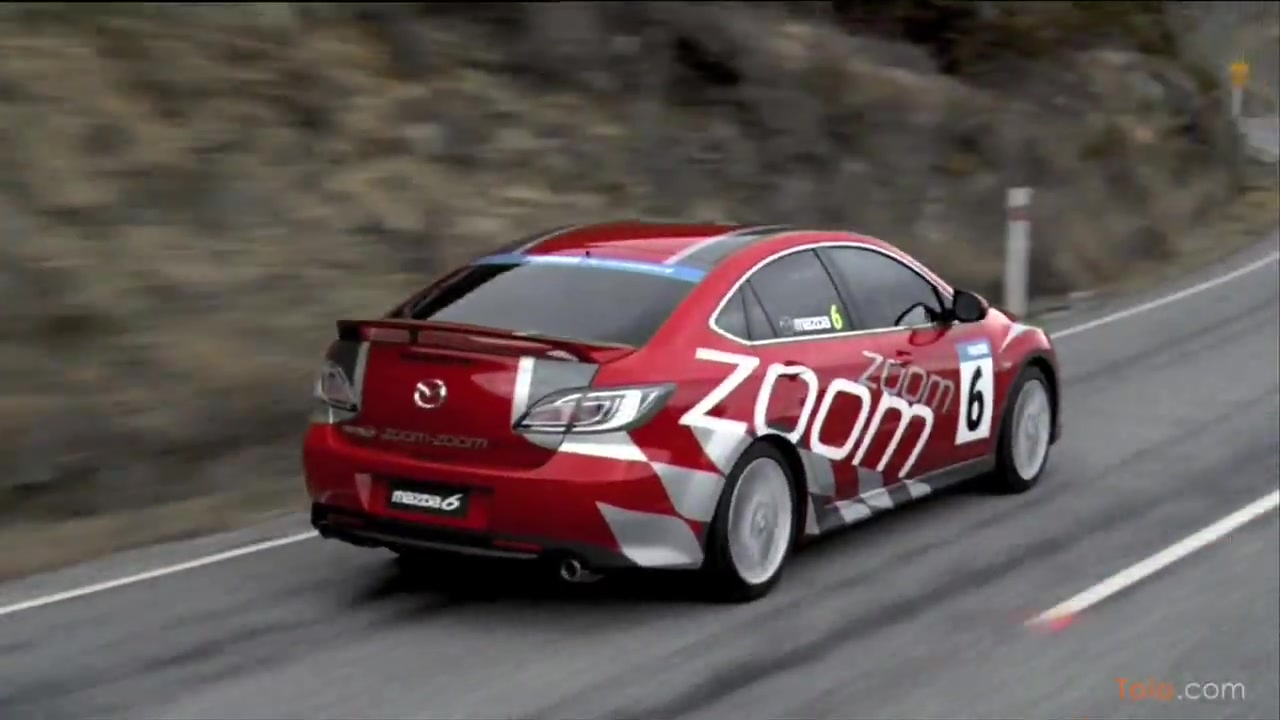car: (302, 220, 1065, 611)
